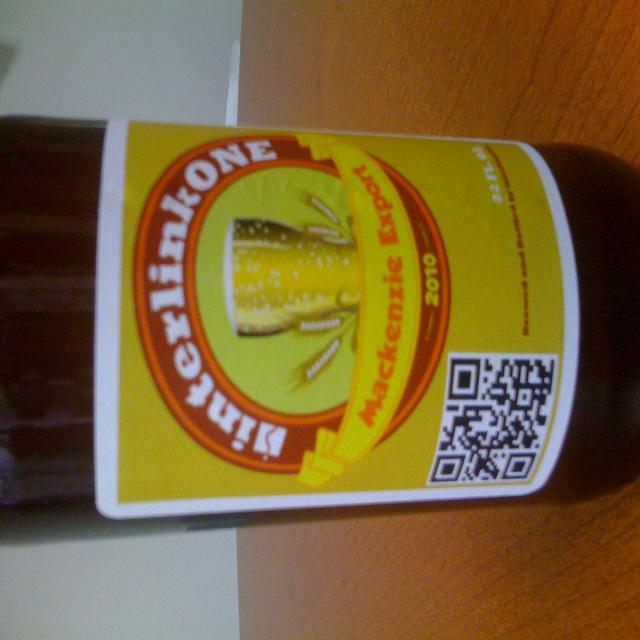qrcode: (431, 359, 555, 482)
